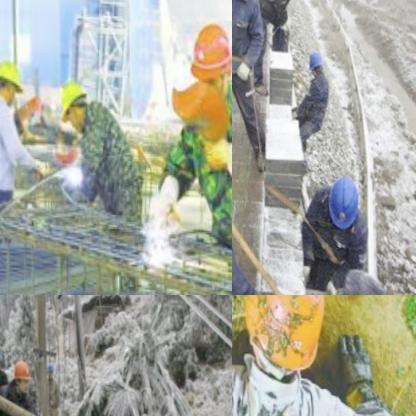helmet: (236, 295, 339, 382), (179, 13, 232, 105), (319, 171, 360, 240), (52, 72, 90, 130), (0, 55, 23, 107), (7, 358, 31, 396), (303, 49, 323, 82), (42, 359, 55, 380)
